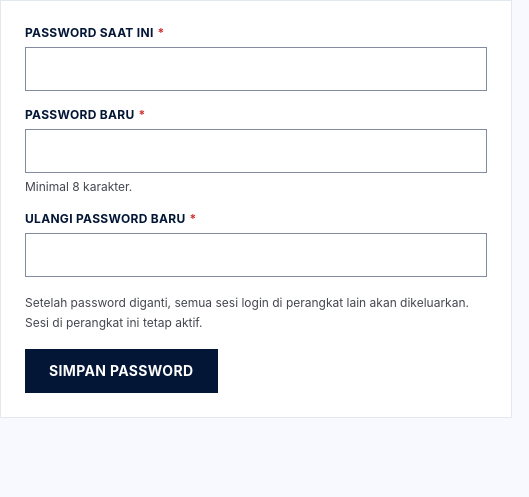
Test: ChangePasswordForm › blocks submit when the new password is shorter than 8 characters
In the password field labelled "Password Saat Ini*": (256, 69) [25, 47, 487, 91], type "passwordlama"
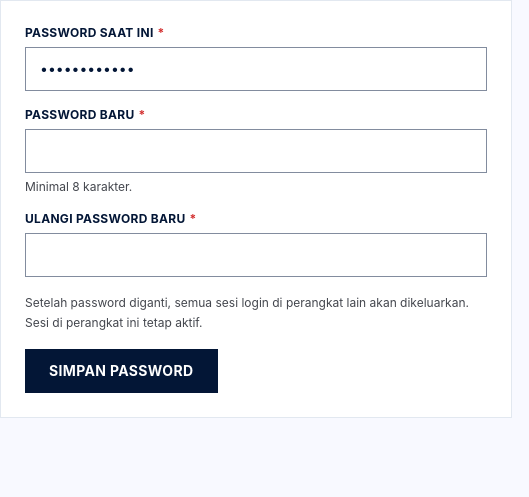
In the password field labelled "Password Baru*": (256, 151) [25, 129, 487, 173], type "pendek"
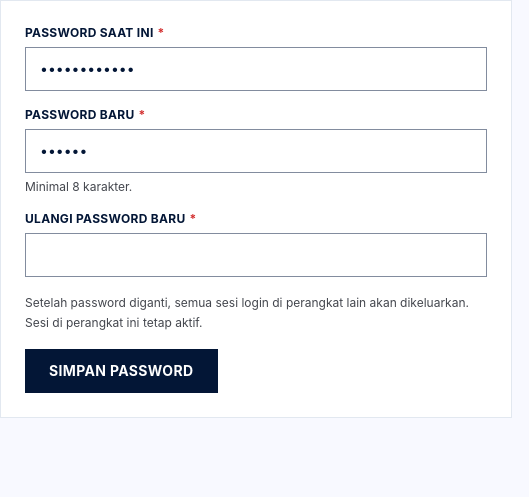
In the password field labelled "Ulangi Password Baru*": (256, 255) [25, 233, 487, 277], type "pendek"
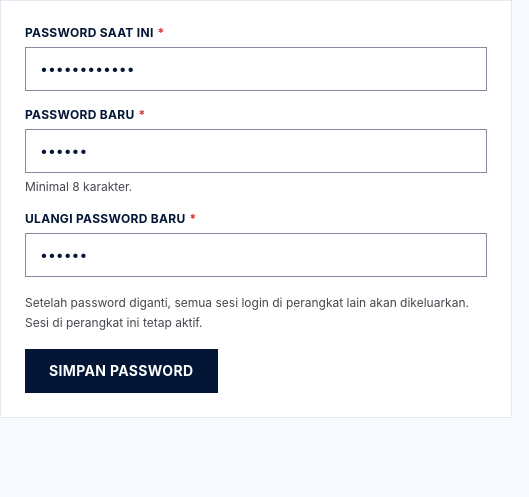
Click the button "Simpan Password": (121, 371) [25, 349, 218, 393]
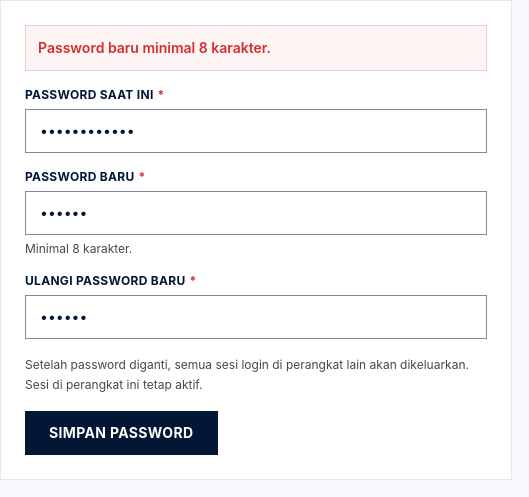
Now the message reads "Password baru minimal 8 karakter.", box [38, 39, 271, 56]
